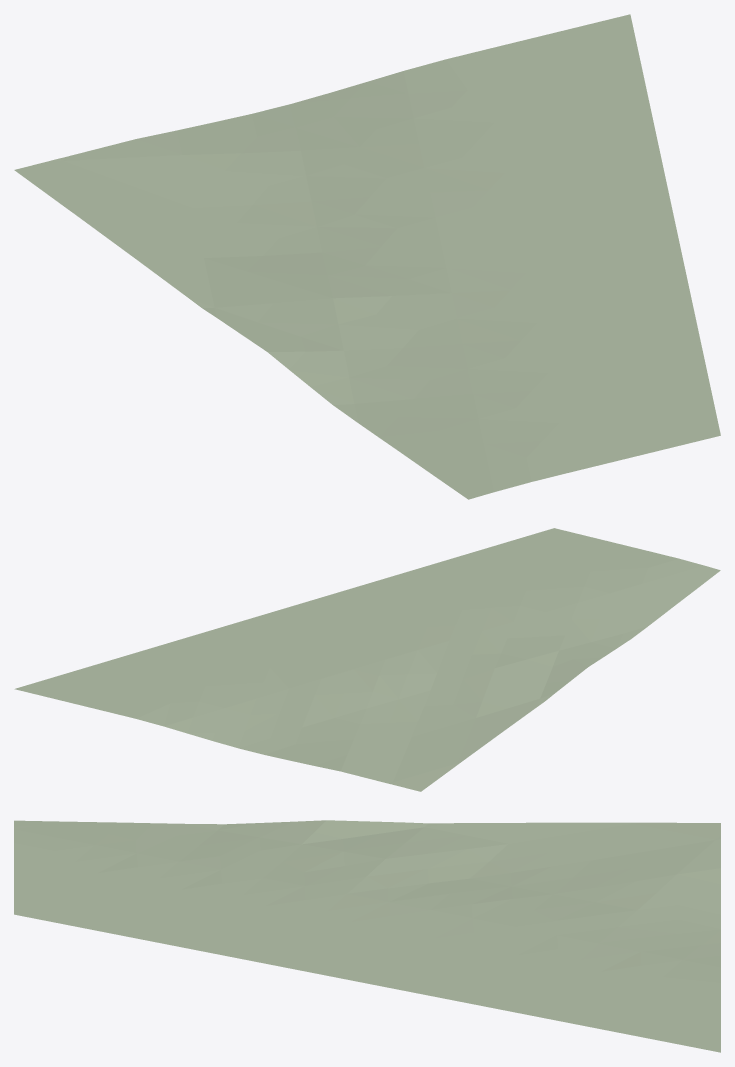
The model's file is SM_MPRR_Terrain_3_-2.fbx.
The picture shows the model from 3 angles, top to bottom: view 1: azimuth 30°, elevation 25°; view 2: azimuth 150°, elevation 25°; view 3: azimuth 270°, elevation 25°; orthographic projection. The views are drawn at different scales.
Visible parts, largest first — view 1: SM_MPRR_Terrain_3_-2; view 2: SM_MPRR_Terrain_3_-2; view 3: SM_MPRR_Terrain_3_-2.
Part boxes in pixels (x1=…): SM_MPRR_Terrain_3_-2: x1=14, y1=14, x2=720, y2=499; SM_MPRR_Terrain_3_-2: x1=14, y1=528, x2=720, y2=791; SM_MPRR_Terrain_3_-2: x1=14, y1=820, x2=720, y2=1052.
Bounding box in the file's own units: 11747 × 15000 × 132.
